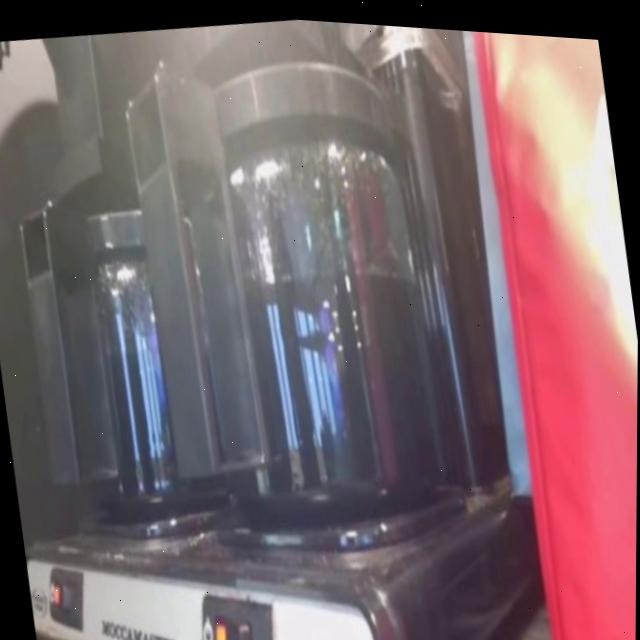coffee: (204, 163, 440, 524), (70, 276, 233, 520)
